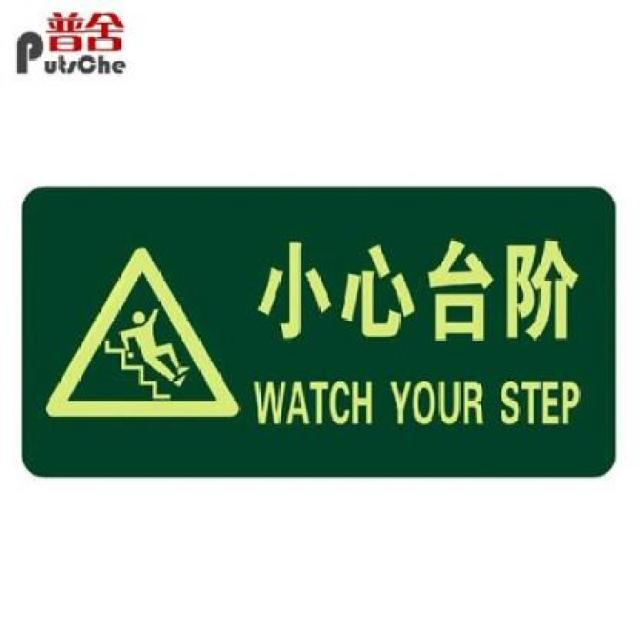exit_sign: (20, 180, 618, 478)
